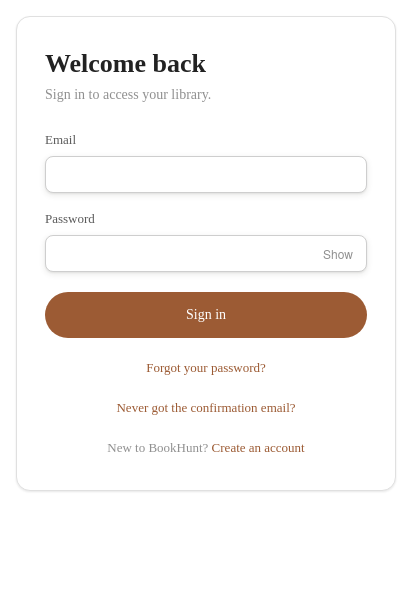
LoginPage › when the address has not been verified › resends the verification email
The image size is (413, 613).
Type "reader@example.com" into the field labelled "Email".
click(206, 174); type("reader@example.com")  # box [45,156,367,193]
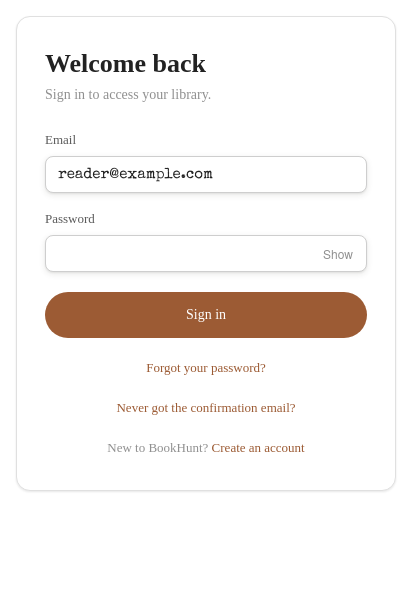
Type "b00kW0rm!" into the password field labelled "Password".
click(206, 254); type("b00kW0rm!")  # box [45,235,367,272]
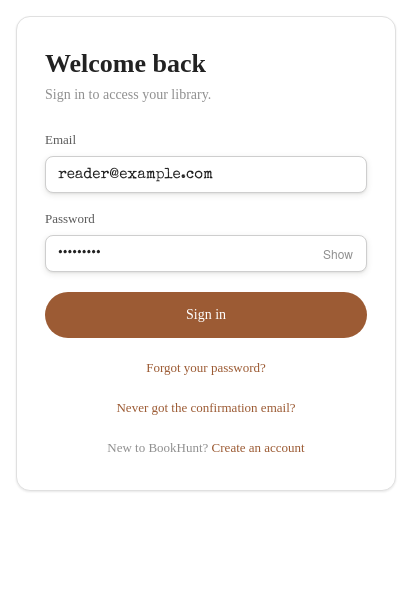
Click the button "Sign in".
click(206, 315)  # box [45,292,367,338]
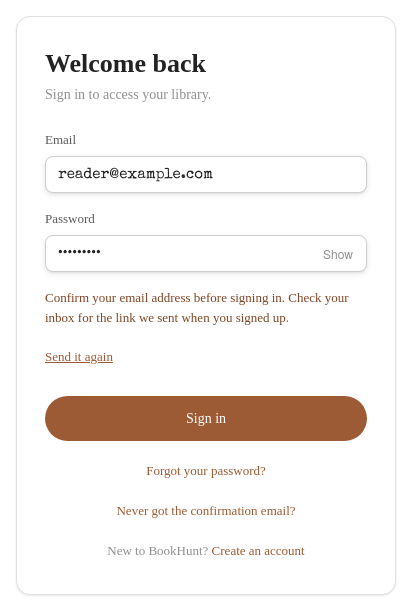
Click the button "Send it again".
click(79, 357)  # box [45,347,113,368]
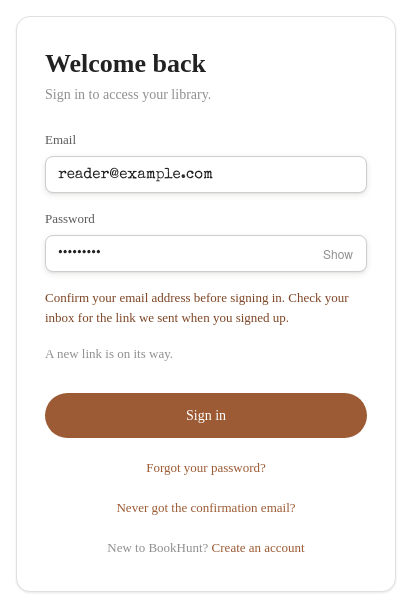
Result: the message "A new link is on its way." is shown at [45,346,173,361]
